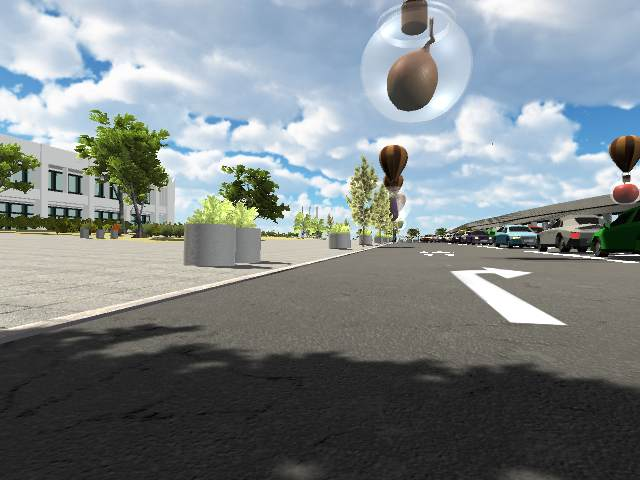ground_right: (449, 266, 534, 279)
